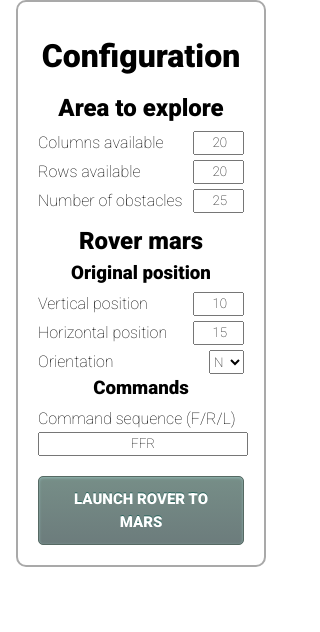
Test case: Given a RoverExpeditionComponent › When is invoked and the number of obstacles are bigger than the surface available › Then should render an error
This screenshot has width=320, height=632.
Replace the text in the number field with id "numberOfObstacles" with "40000" at (218, 201), box [193, 189, 244, 213]
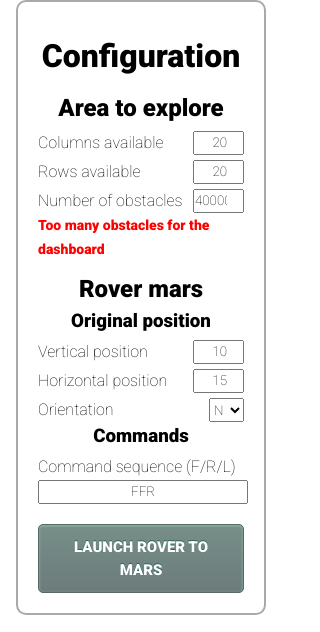
Expected: the text with class "input-container__element--error" reads "Too many obstacles for the dashboard", [38, 217, 210, 257]
